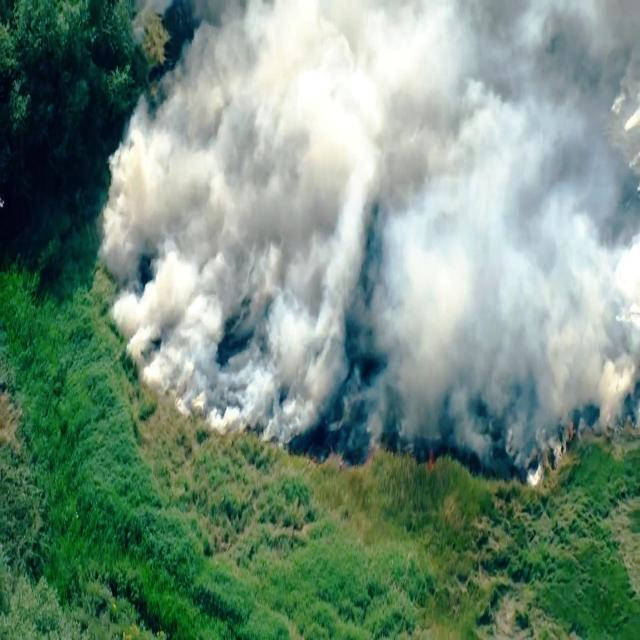Smoke: (161, 50, 640, 425), (126, 15, 350, 432)
